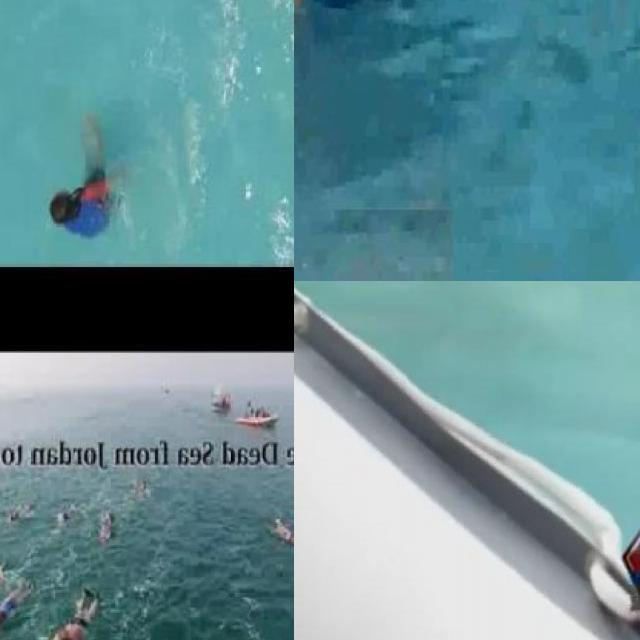swimming: (45, 124, 151, 243), (46, 577, 107, 640), (0, 586, 37, 637), (267, 505, 294, 545), (0, 568, 11, 599)
